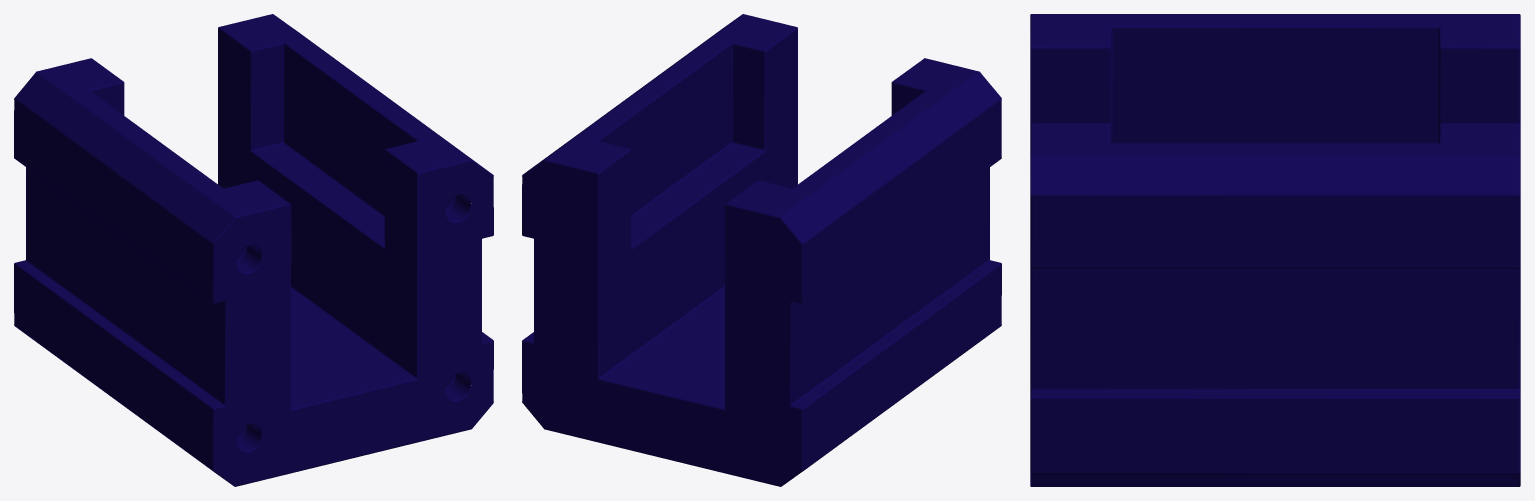
The model's file is M0 Basic Blender.gltf.
The picture shows the model from 3 angles, left to right: view 1: azimuth 30°, elevation 25°; view 2: azimuth 150°, elevation 25°; view 3: azimuth 270°, elevation 25°; orthographic projection. The views are drawn at different scales.
Visible parts, largest first — view 1: Cube; view 2: Cube; view 3: Cube.
Part boxes in pixels (box(x1,y1,x2,y2)): Cube: box(14, 14, 493, 486); Cube: box(522, 14, 1001, 486); Cube: box(1030, 14, 1520, 486).
Size of the model in its own units: 3.64 by 3.34 by 4.47.
